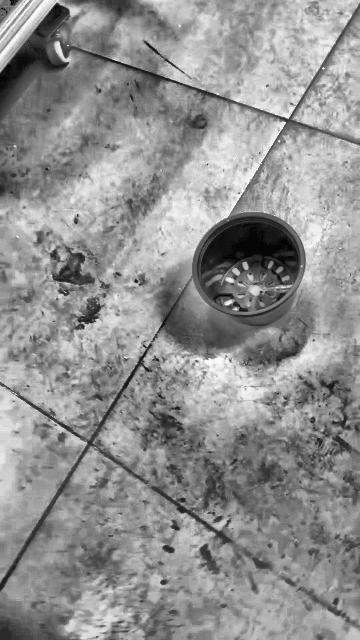pot: (192, 213, 306, 328)
